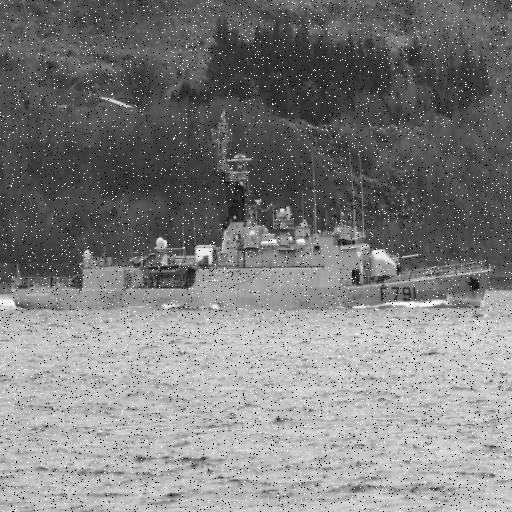Fragata: (8, 108, 495, 313)
